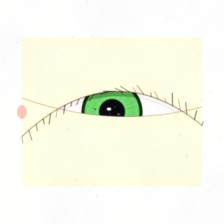pterygium_lesion: (24, 98, 58, 126)
